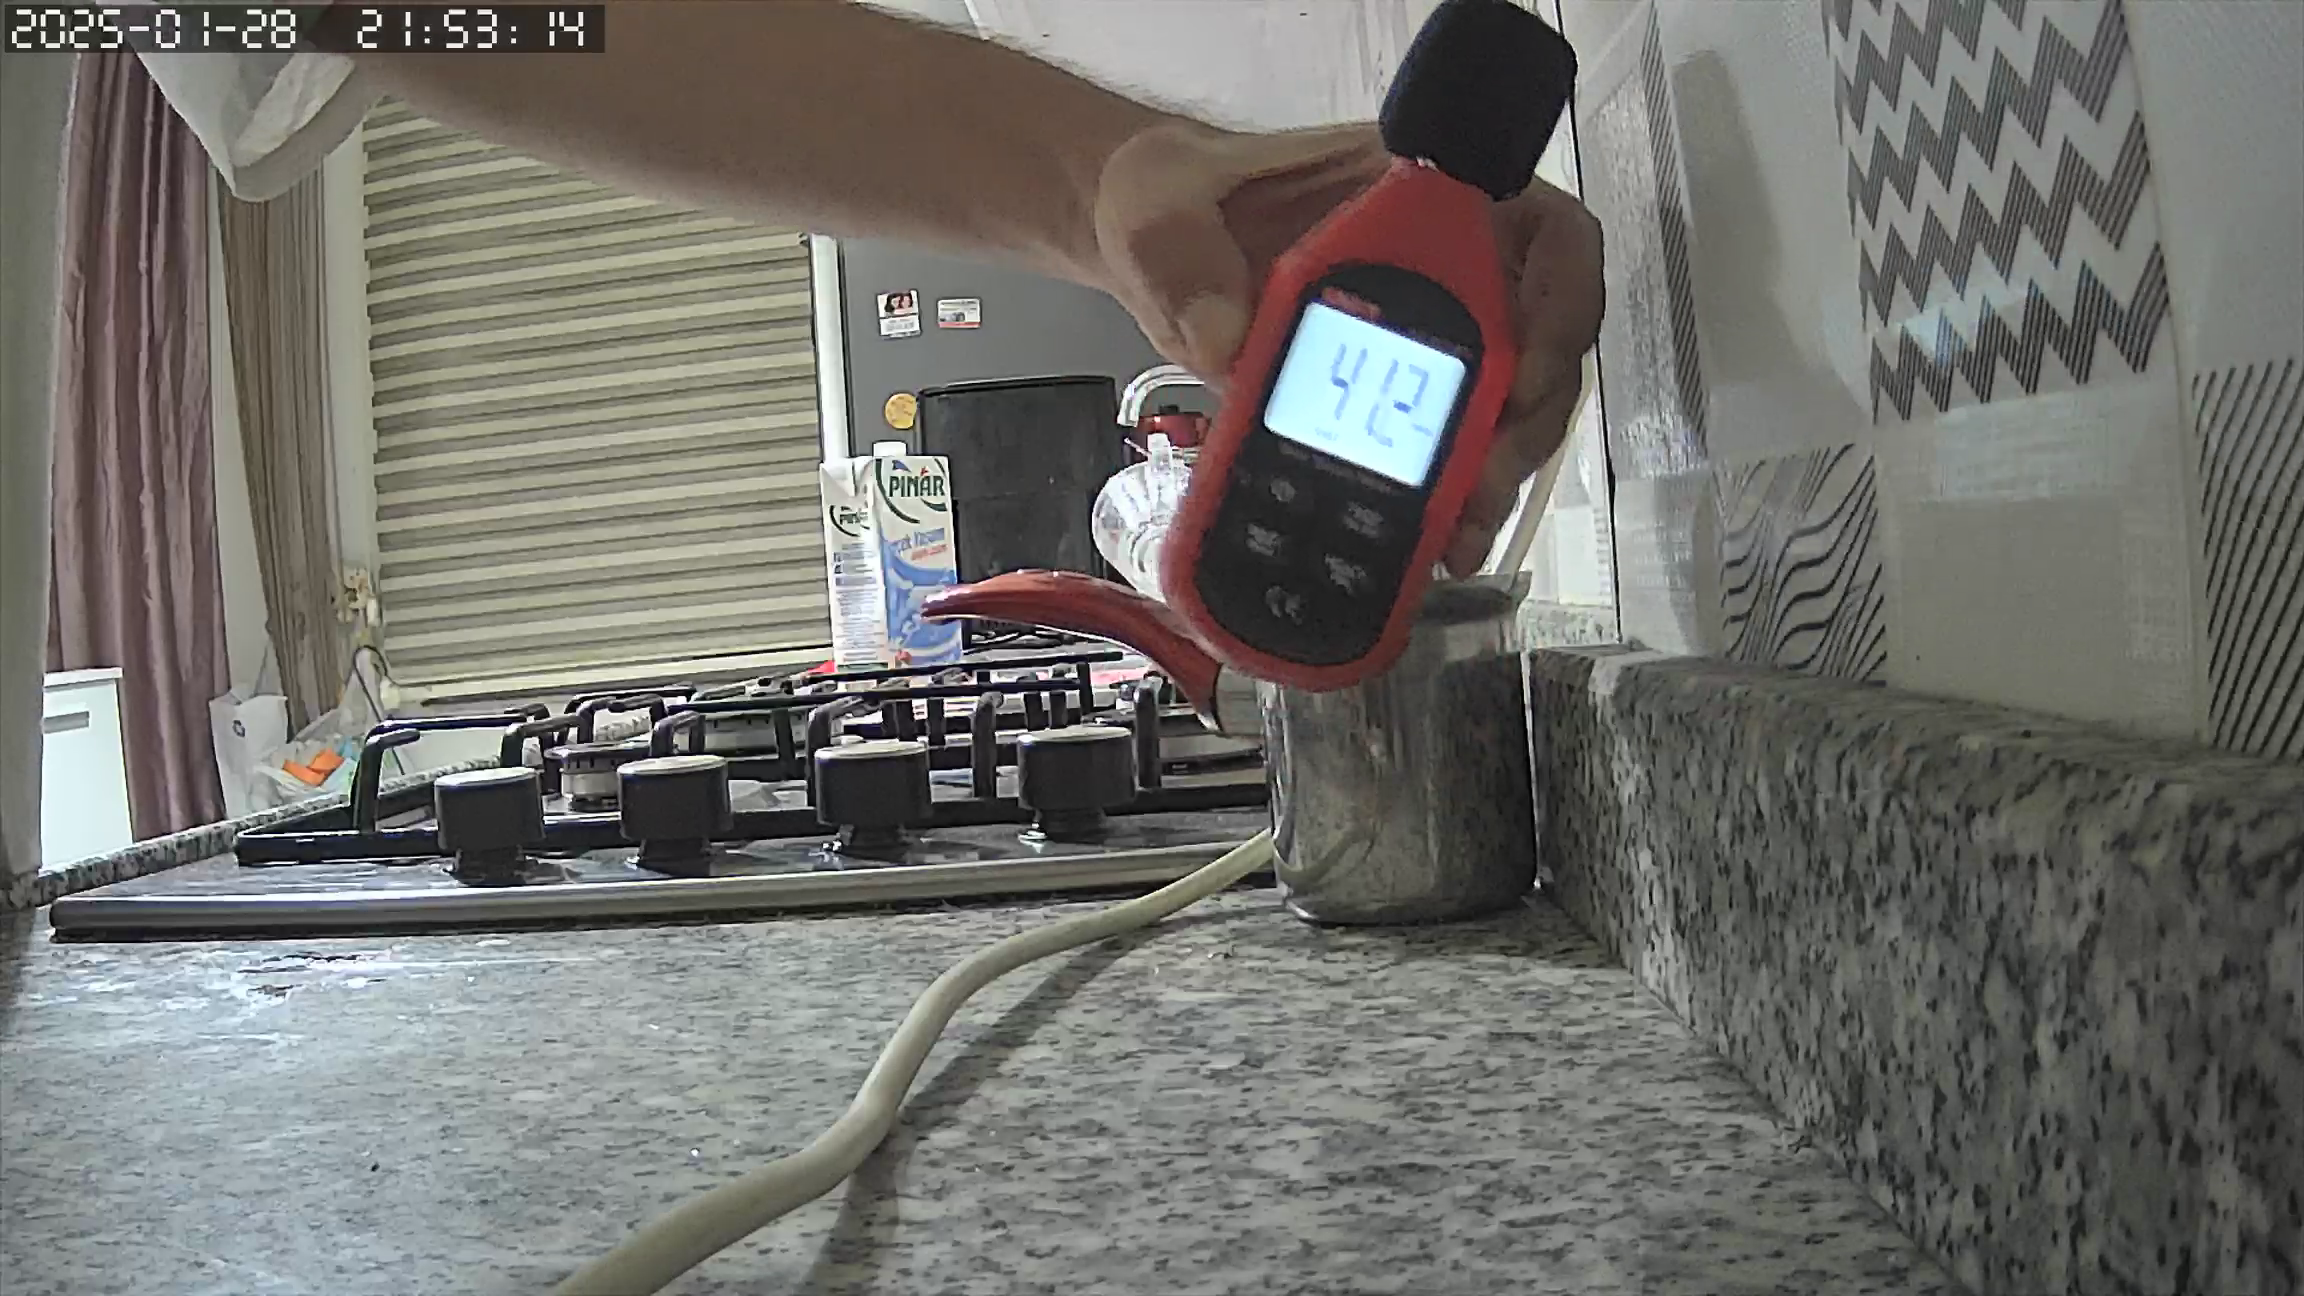screen: (1260, 301, 1465, 491)
